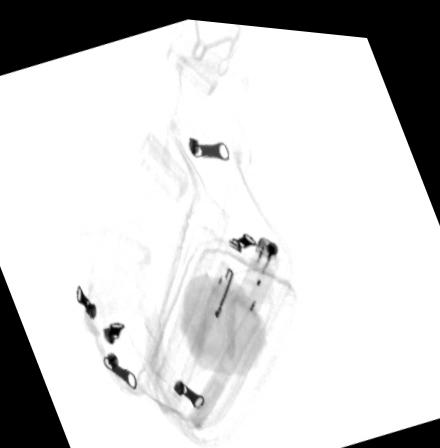Lighter: (233, 231, 281, 312)
